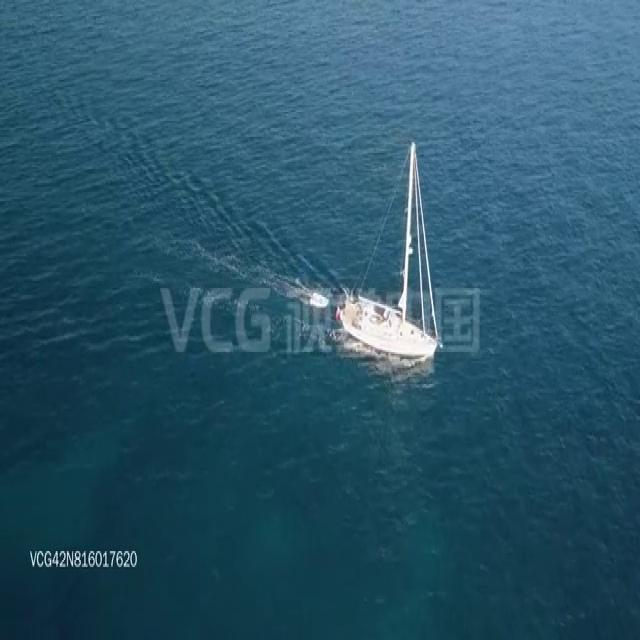houseboat: (308, 286, 328, 312)
sailboat: (332, 136, 442, 366)
